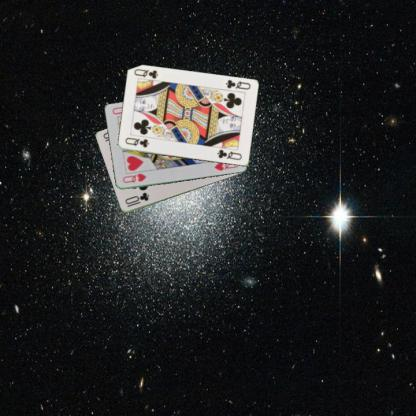10c: (123, 190, 150, 209)
Qc: (122, 135, 150, 149), (223, 77, 251, 91)
Qh: (121, 171, 148, 184)
